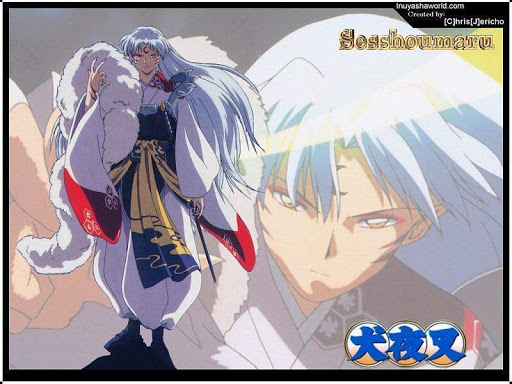sesshomaru: (216, 12, 449, 316), (109, 26, 182, 98)
